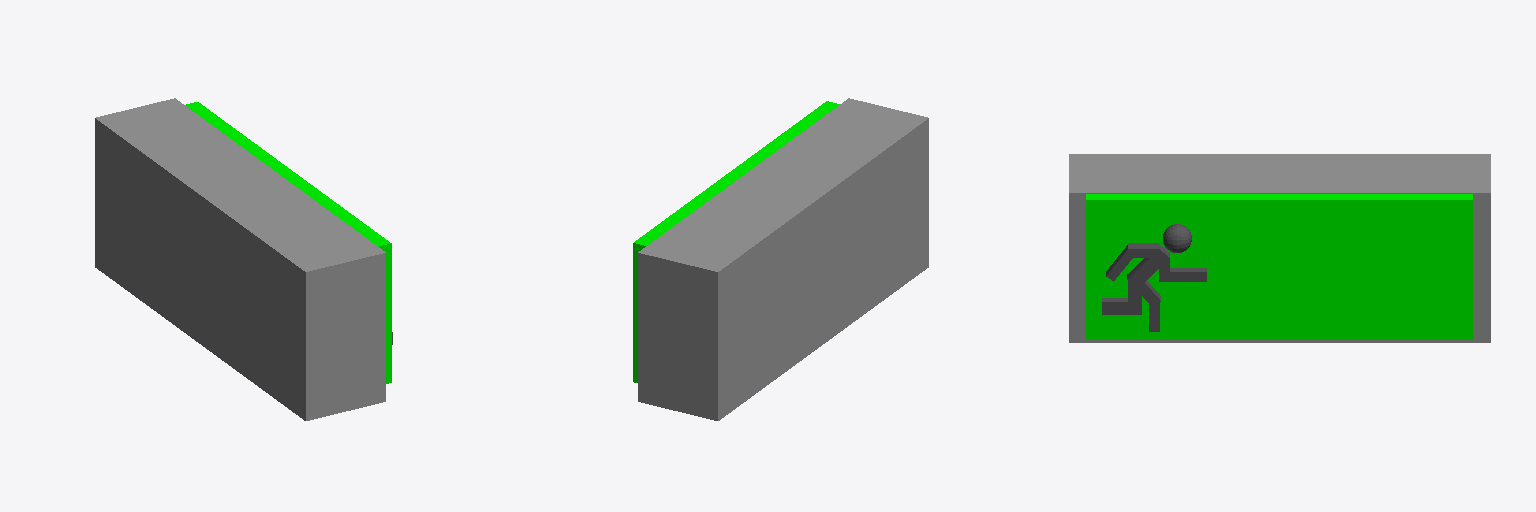
File: baes.obj
3 views of the same model, side by side, from view 1: azimuth 30°, elevation 25°; view 2: azimuth 150°, elevation 25°; view 3: azimuth 270°, elevation 25° (orthographic).
Parts seen in each view (by area): view 1: Part11, Baes1; view 2: Part11, Baes1; view 3: Baes1, Part11, Part9, Part10.
Boxes of the visible parts, box(x1,y1,x2,y2) form: Part11: box(95, 98, 385, 420); Baes1: box(185, 102, 391, 383); Part11: box(638, 98, 928, 420); Baes1: box(633, 101, 839, 382); Baes1: box(1086, 194, 1472, 339); Part11: box(1069, 154, 1490, 342); Part9: box(1127, 244, 1169, 287); Part10: box(1163, 224, 1191, 252).
Size of the model in its own units: 1.8 by 2.3 by 5.9.